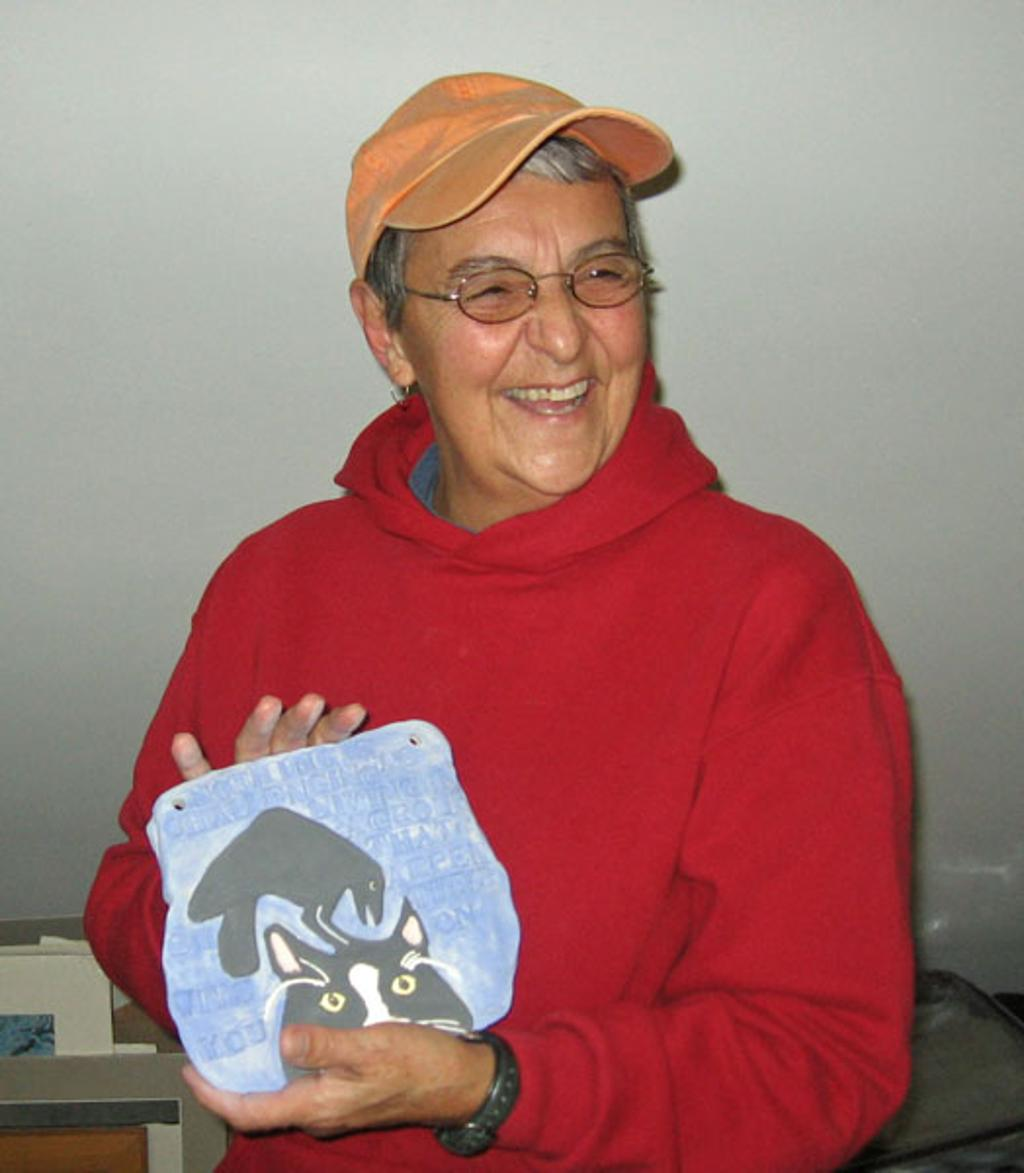face: (410, 170, 644, 495)
